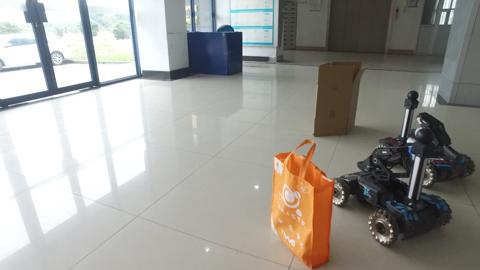bag: (269, 137, 340, 262)
box: (312, 59, 362, 137)
chariot: (333, 122, 456, 246), (395, 85, 474, 176)
